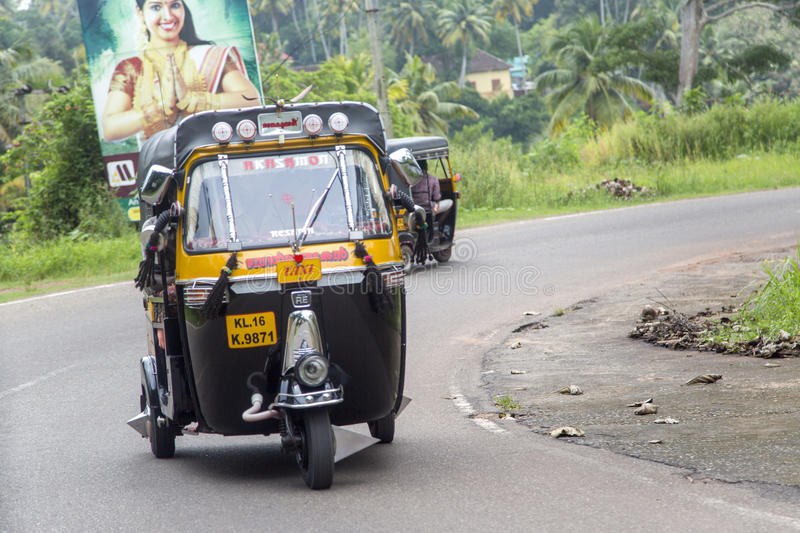autorickshaw: (120, 93, 416, 499), (388, 126, 469, 272)
